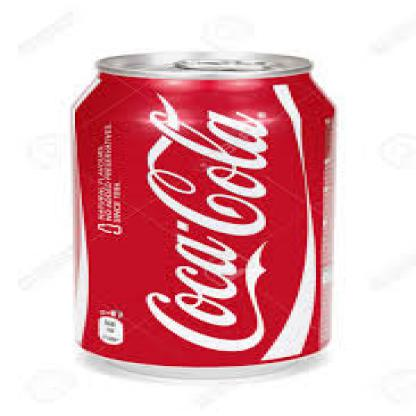METAL: (68, 51, 334, 376)
